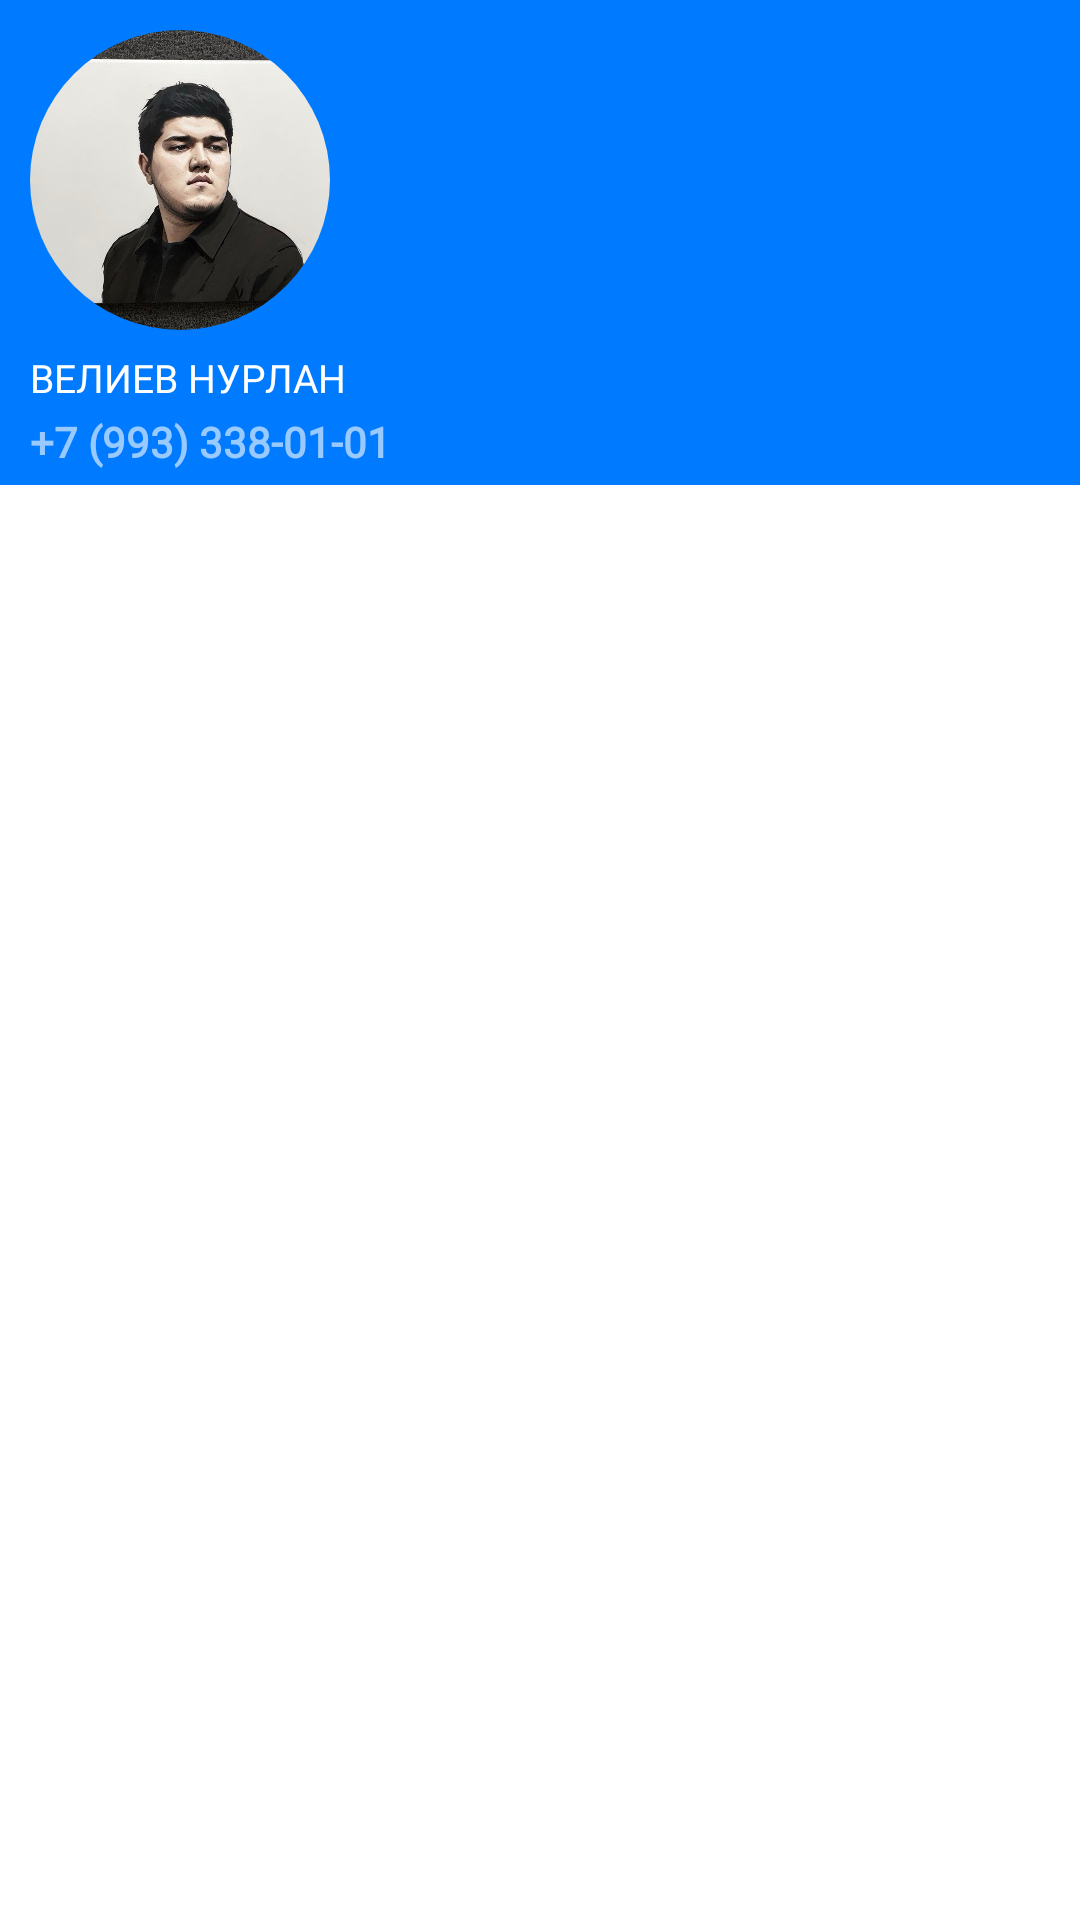

Named icons in this screenshot (1080px×1920px) and their centers, (x,y):
photo: (180,180)
